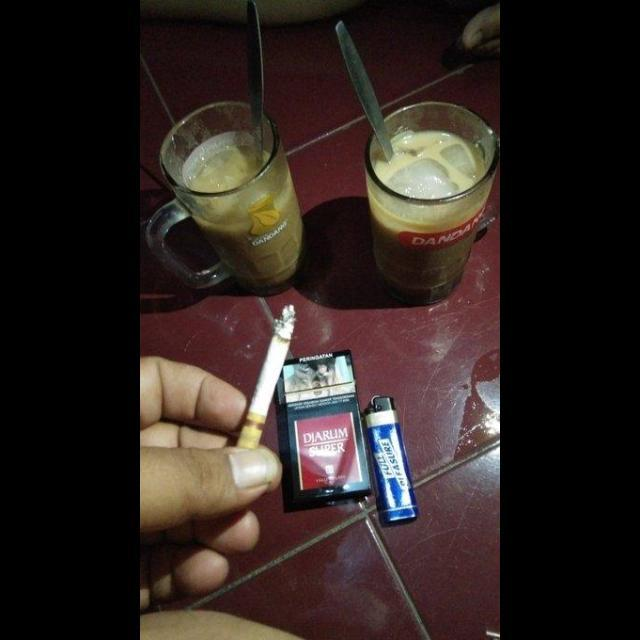rokok: (231, 298, 299, 446)
